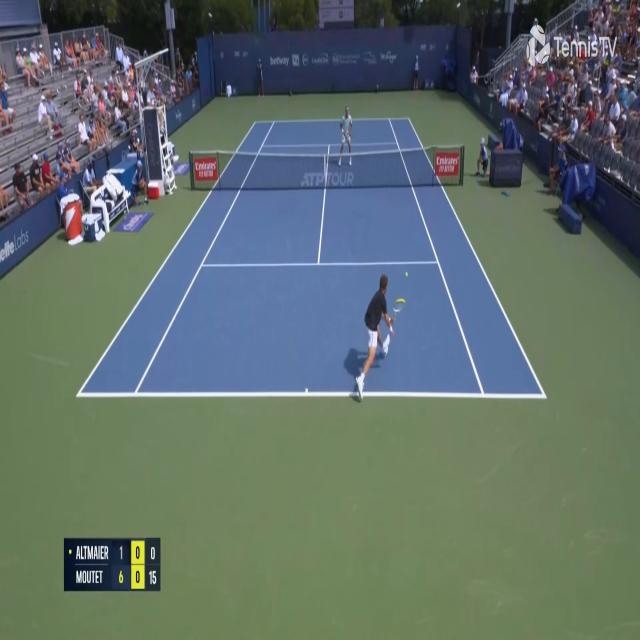tennis-player: (348, 268, 407, 403), (338, 104, 354, 163)
